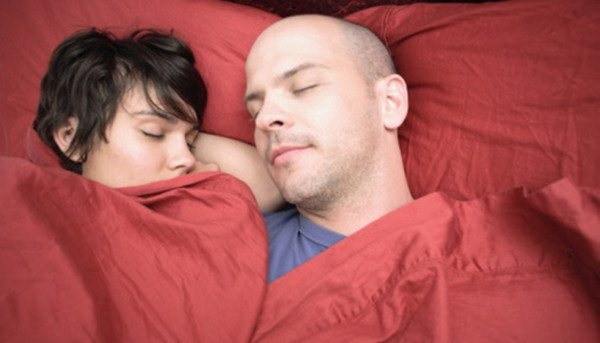face: (243, 20, 379, 203), (92, 87, 198, 208)
